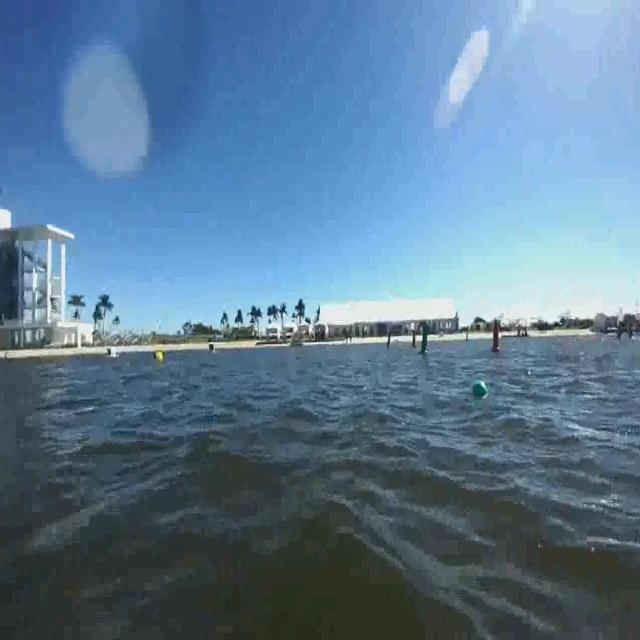green-buoy: (472, 382, 485, 397)
green-column-buoy: (420, 324, 430, 358)
red-column-buoy: (490, 320, 501, 353)
yellow-buoy: (154, 350, 164, 364)
